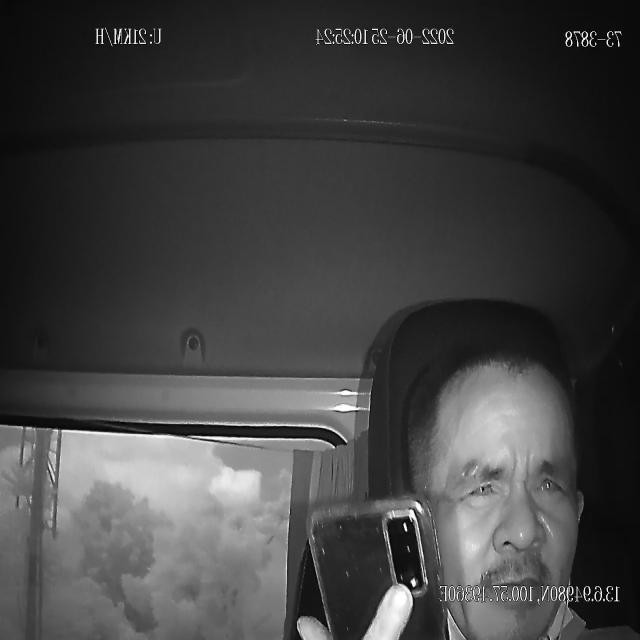phone: (307, 493, 447, 640)
